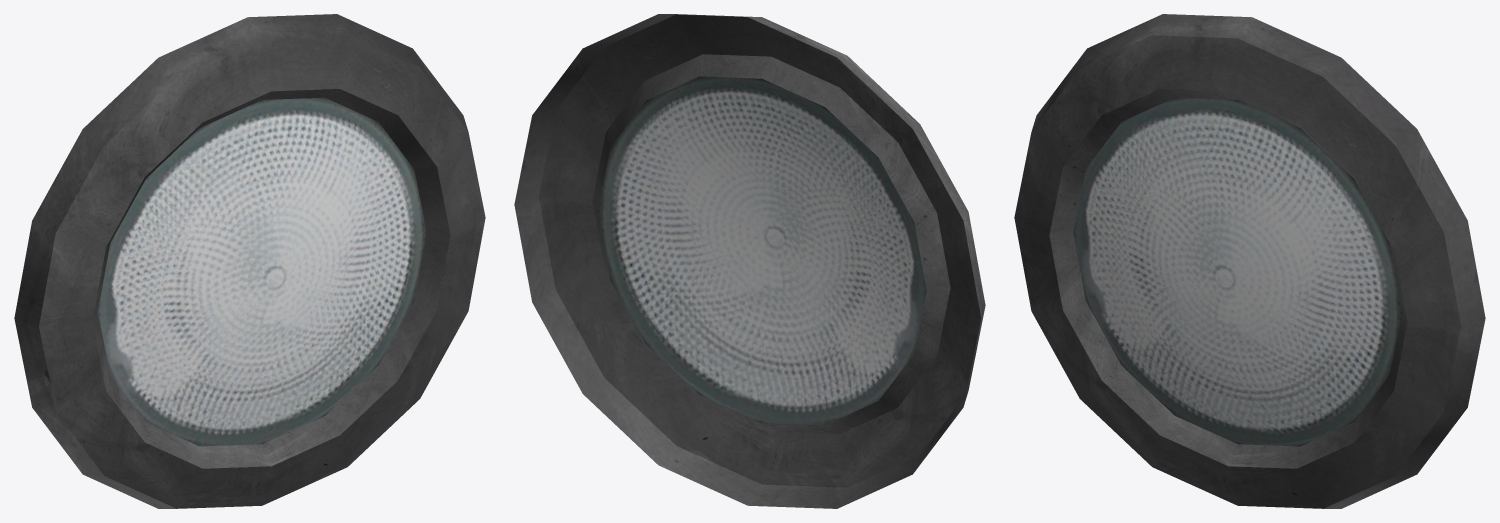
The model's file is p6_lights_club_recessed_dim_LOD0.obj.
3 views of the same model, side by side, from view 1: azimuth 30°, elevation 25°; view 2: azimuth 150°, elevation 25°; view 3: azimuth 330°, elevation 25° (orthographic).
Parts seen in each view (by area): view 1: metal_wall_brushed, light_recessed_dim; view 2: metal_wall_brushed, light_recessed_dim; view 3: metal_wall_brushed, light_recessed_dim.
Boxes of the visible parts, x1=… form: metal_wall_brushed: x1=14, y1=14, x2=485, y2=508; light_recessed_dim: x1=98, y1=97, x2=426, y2=446; metal_wall_brushed: x1=514, y1=14, x2=985, y2=508; light_recessed_dim: x1=598, y1=76, x2=926, y2=425; metal_wall_brushed: x1=1014, y1=14, x2=1485, y2=508; light_recessed_dim: x1=1073, y1=97, x2=1401, y2=446.
Bounding box in the file's own units: 26.76 × 26.76 × 2.82.
